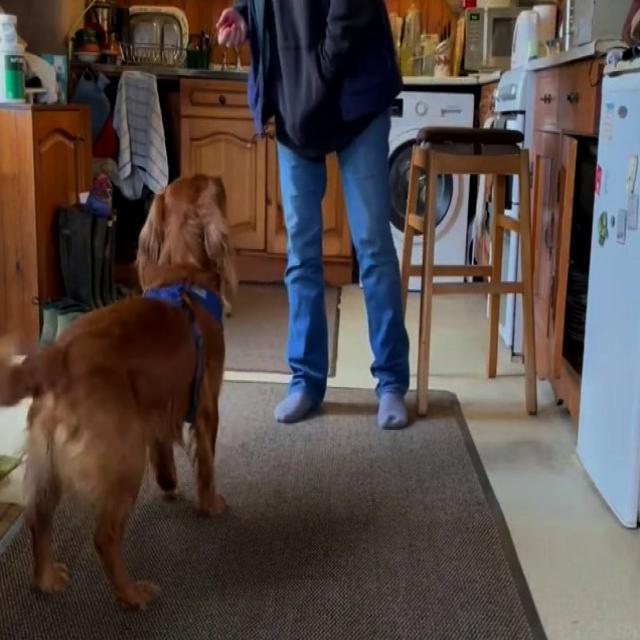Unleashed_Dog: (0, 103, 358, 611)
